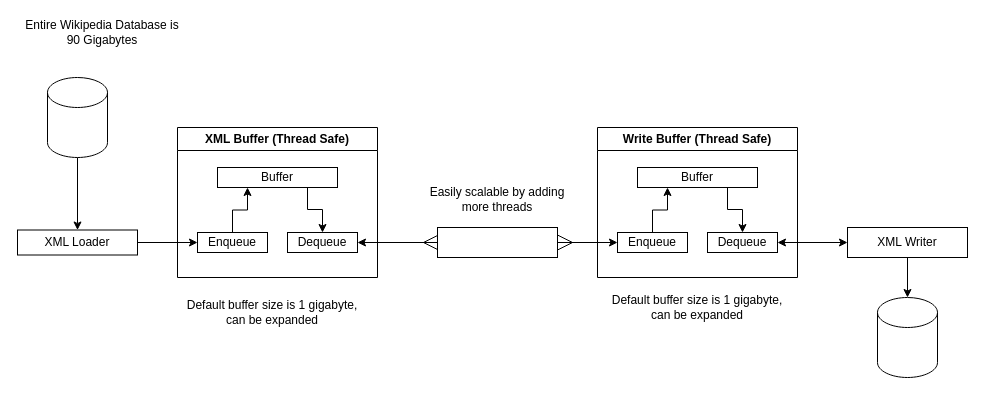
The diagram is 985 pixels wide and 395 high, and some of its shapes have lost their labels. The box of each missing label's shape, as (x1, y1, x2, y2) in pixels:
Disk: (876, 296, 938, 378)
File on Disk: (46, 76, 108, 158)
Wikipedia Parser: (436, 226, 558, 258)
